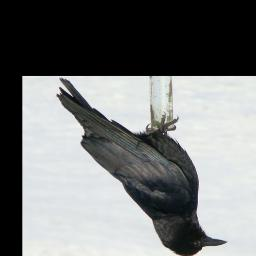Crow: (55, 77, 229, 256)
